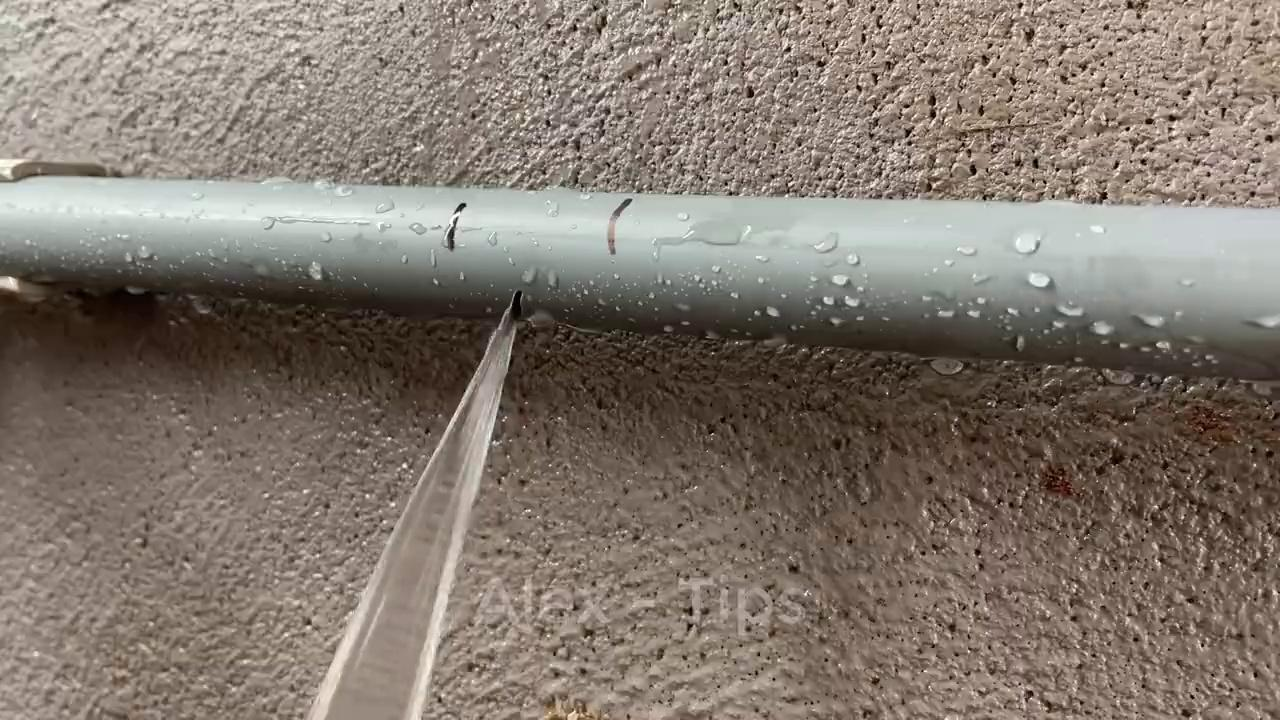pipe burst: (295, 282, 541, 720)
